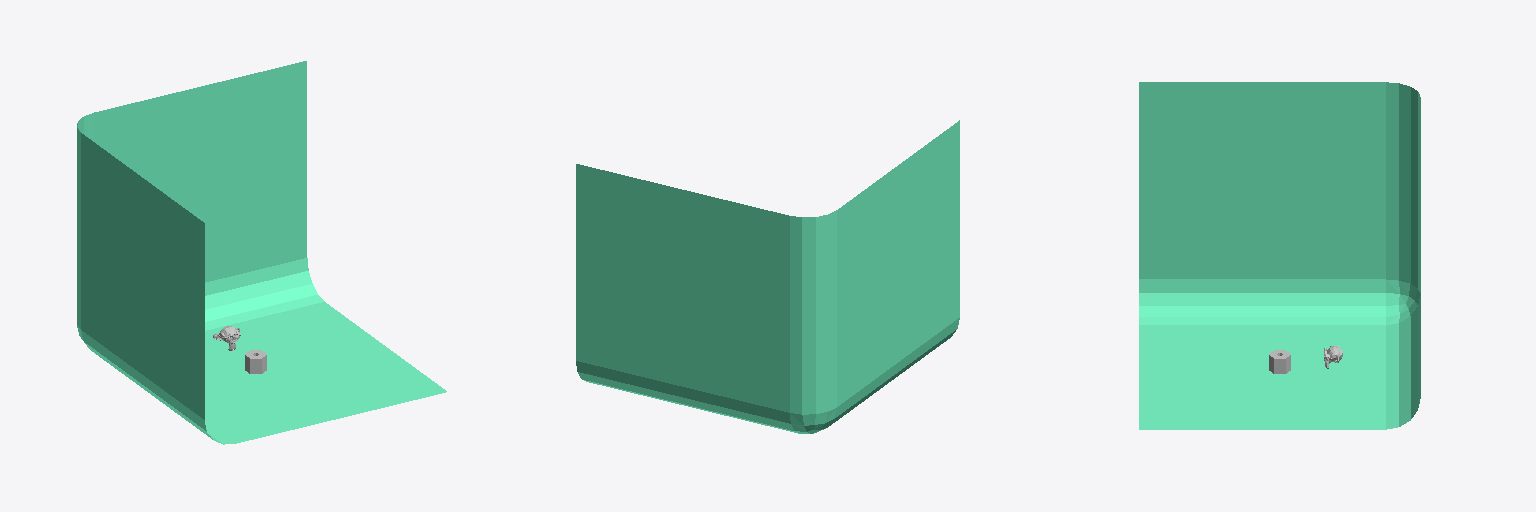
File: yingsheng.obj
3 renders of one model, left to right at view 1: azimuth 30°, elevation 25°; view 2: azimuth 150°, elevation 25°; view 3: azimuth 270°, elevation 25°, orthographic.
Parts seen in each view (by area): view 1: 0场景_猴头.002; view 2: 0场景_猴头.002; view 3: 0场景_猴头.002.
Part boxes in pixels (x1,y1,x2,y2): 0场景_猴头.002: (77, 61, 446, 444); 0场景_猴头.002: (576, 120, 959, 433); 0场景_猴头.002: (1139, 82, 1420, 429).
Size of the model in its own units: 24.56 by 22.01 by 24.56.